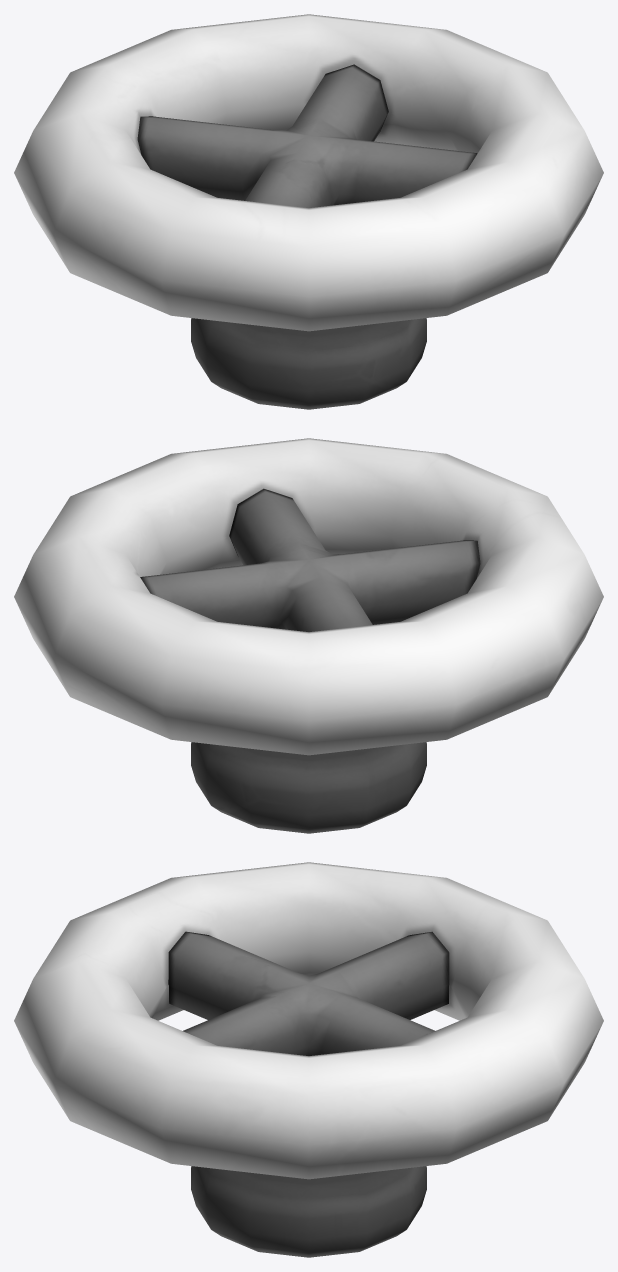
File: Controller_06.fbx
3 views of the same model, one above another, from view 1: azimuth 30°, elevation 25°; view 2: azimuth 150°, elevation 25°; view 3: azimuth 270°, elevation 25° (orthographic).
Parts seen in each view (by area): view 1: Controller_06; view 2: Controller_06; view 3: Controller_06.
Boxes of the visible parts, box(x1,y1,x2,y2) form: Controller_06: box(14, 14, 603, 409); Controller_06: box(14, 438, 603, 833); Controller_06: box(14, 862, 603, 1257).
Bounding box in the file's own units: 1.8 × 0.8534 × 1.8.
